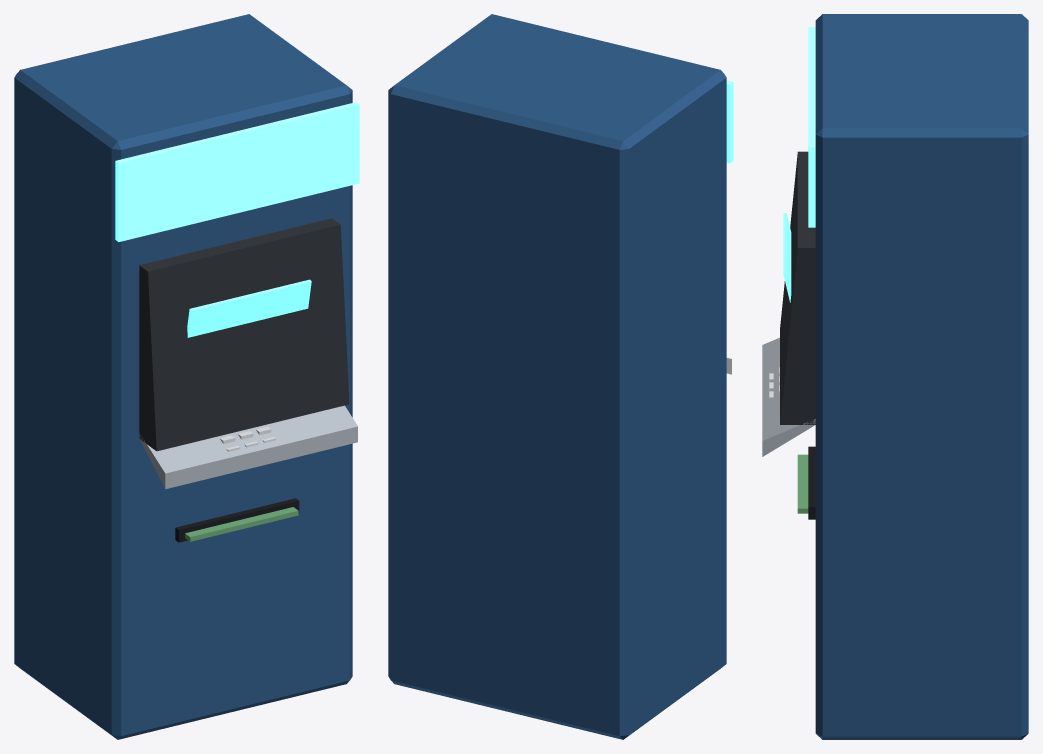
The model's file is atm.glb.
3 views of the same model, side by side, from view 1: azimuth 30°, elevation 25°; view 2: azimuth 150°, elevation 25°; view 3: azimuth 270°, elevation 25° (orthographic). The views are drawn at different scales.
Parts seen in each view (by area): view 1: atm; view 2: atm; view 3: atm.
Boxes of the visible parts, <box> form: atm: <box>14,14,359,739</box>; atm: <box>388,14,733,739</box>; atm: <box>762,14,1028,739</box>.
Bounding box in the file's own units: 0.8 × 1.9 × 0.75.
